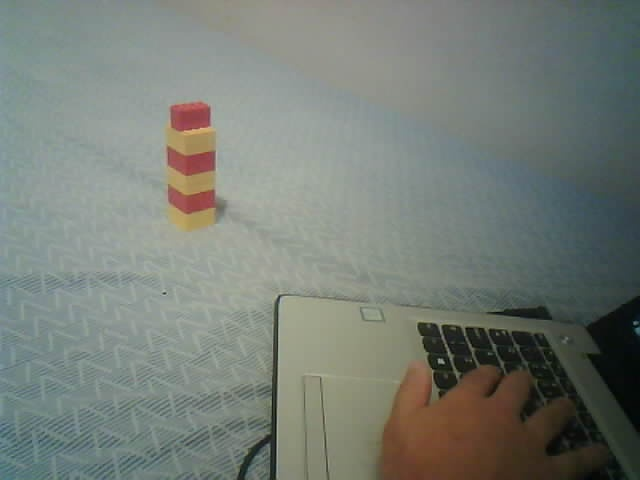lego: (164, 100, 218, 231)
